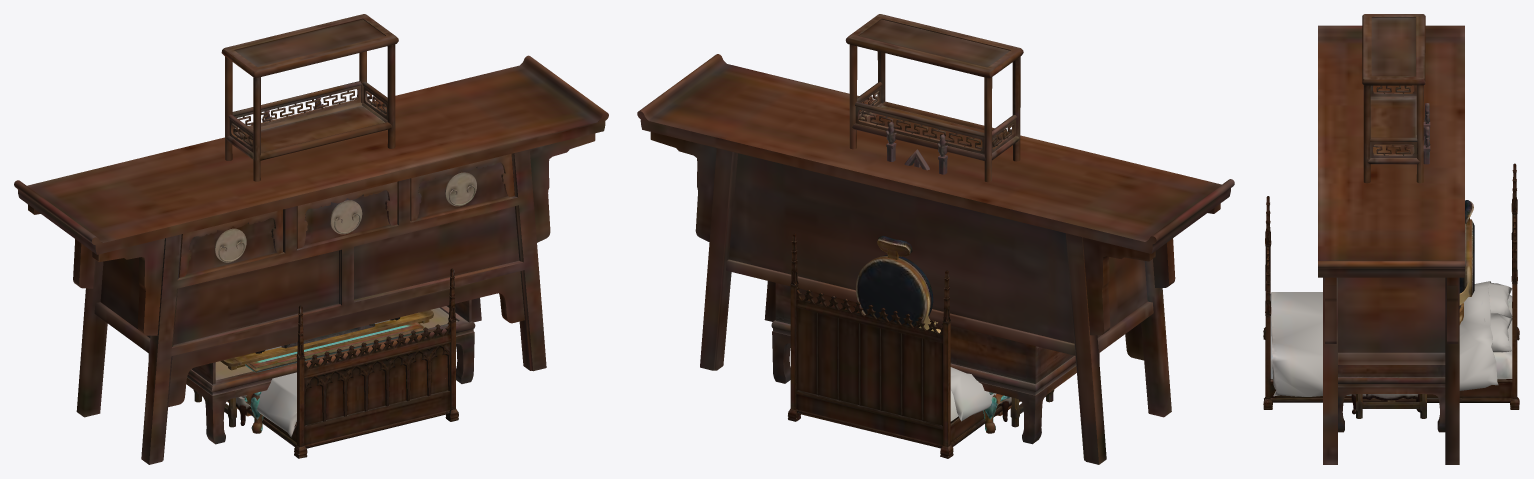
Rendered from ph_furn.glb.
3 views of the same model, side by side, from view 1: azimuth 30°, elevation 25°; view 2: azimuth 150°, elevation 25°; view 3: azimuth 270°, elevation 25° (orthographic). The views are drawn at different scales.
Parts seen in each view (by area): view 1: chinese_commode, GothicBed_01, chinese_cabinet, chinese_sofa, CoffeeTable_01, WoodenTable_01; view 2: chinese_commode, GothicBed_01, chinese_cabinet, chinese_sofa, BarberShopChair_01, WoodenChair_01; view 3: chinese_commode, GothicBed_01, chinese_cabinet, chinese_sofa, BarberShopChair_01, WoodenTable_01, Sofa_01, WoodenChair_01.
Part boxes in pixels (x1,y1,x2,y2): chinese_commode: [14, 55, 608, 464]; GothicBed_01: [246, 268, 458, 458]; chinese_cabinet: [221, 14, 398, 181]; chinese_sofa: [148, 300, 475, 444]; CoffeeTable_01: [244, 322, 424, 433]; WoodenTable_01: [193, 310, 433, 427]; chinese_commode: [637, 54, 1234, 464]; GothicBed_01: [788, 233, 1002, 458]; chinese_cabinet: [845, 14, 1023, 416]; chinese_sofa: [771, 283, 1099, 444]; BarberShopChair_01: [855, 236, 940, 333]; WoodenChair_01: [886, 121, 947, 174]; chinese_commode: [1318, 25, 1464, 464]; GothicBed_01: [1263, 163, 1519, 409]; chinese_cabinet: [1362, 14, 1425, 183]; chinese_sofa: [1338, 365, 1445, 432]; BarberShopChair_01: [1459, 200, 1474, 324]; WoodenTable_01: [1356, 394, 1426, 418]; Sofa_01: [1351, 394, 1420, 414]; WoodenChair_01: [1423, 103, 1430, 164].
Size of the model in its own units: 4.49 by 2.87 by 2.04.
24 materials, 24 textured.
